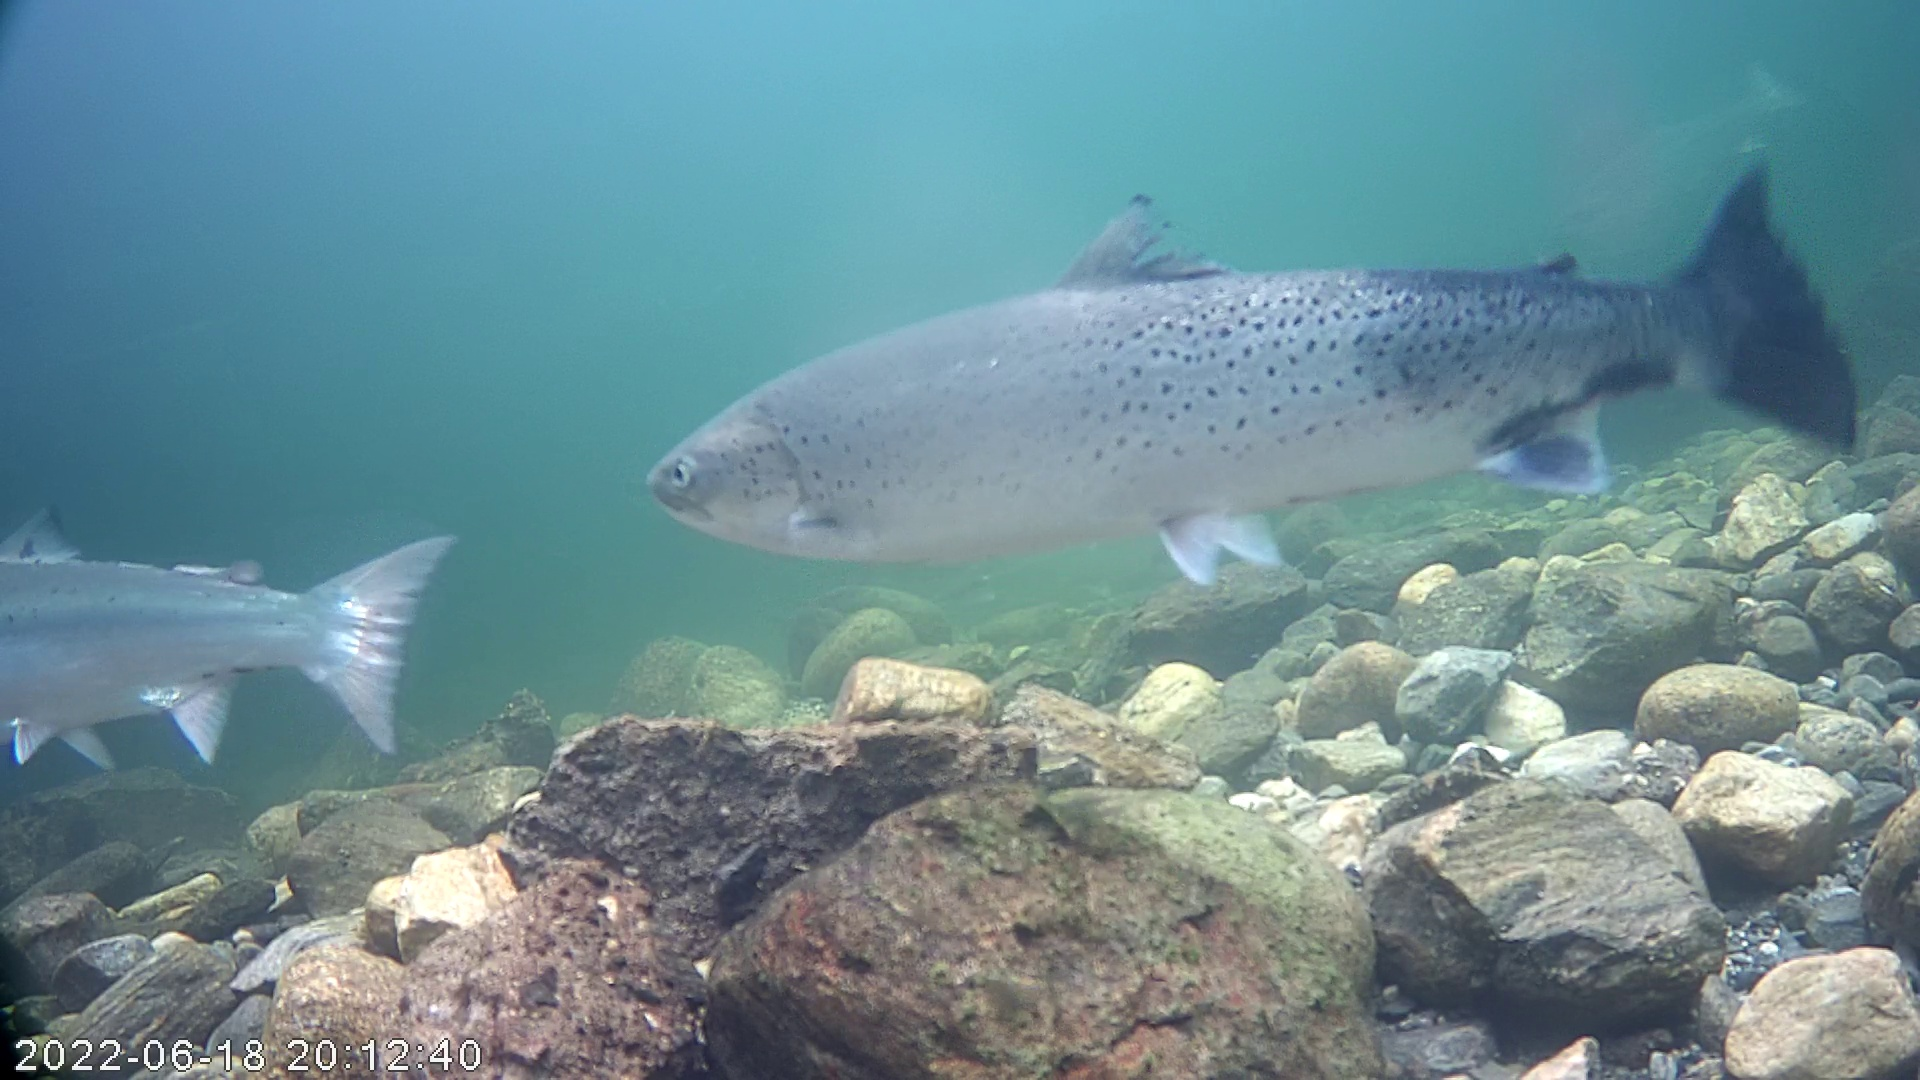salmon: (644, 152, 1862, 588), (1, 496, 459, 775)
